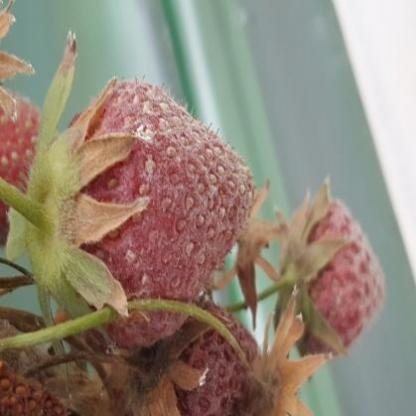Strawberry_Powdery_Mildew_Fruit: (38, 80, 256, 352), (144, 300, 265, 415)
